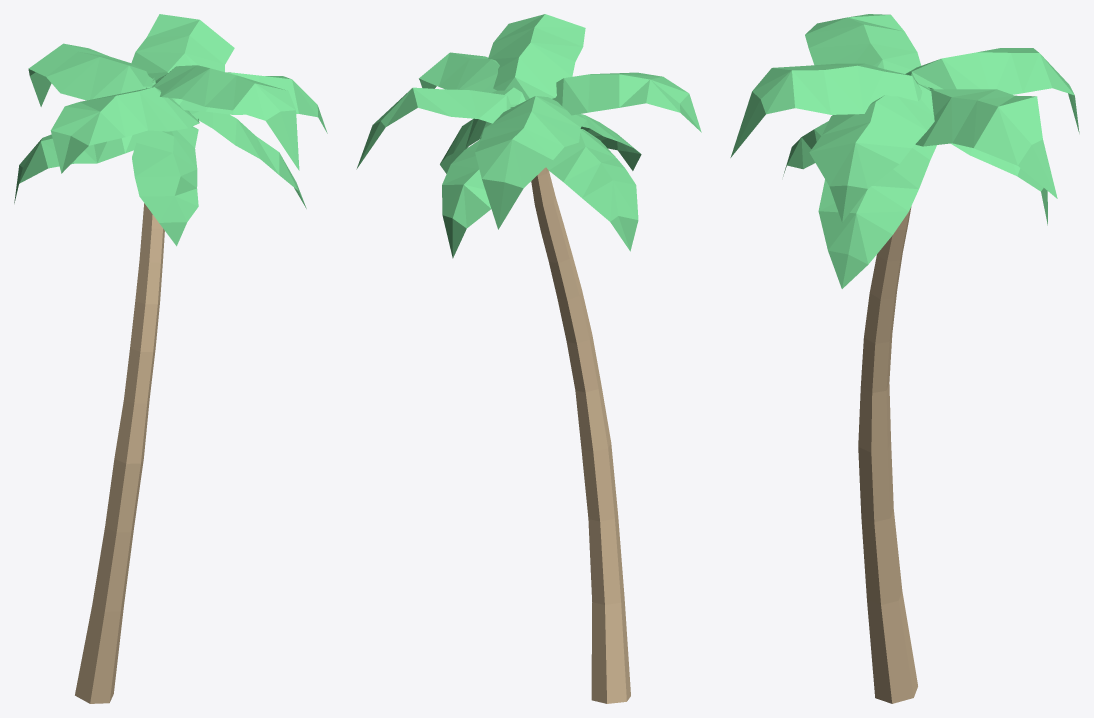
The model's file is PalmTree.fbx.
3 views of the same model, side by side, from view 1: azimuth 30°, elevation 25°; view 2: azimuth 150°, elevation 25°; view 3: azimuth 270°, elevation 25° (orthographic). The views are drawn at different scales.
Visible parts, largest first — view 1: palmtreeleaves, palmtreetrunk; view 2: palmtreeleaves, palmtreetrunk; view 3: palmtreeleaves, palmtreetrunk.
Boxes of the visible parts, box(x1,y1,x2,y2) form: palmtreeleaves: box(14, 14, 327, 246); palmtreetrunk: box(75, 203, 164, 703); palmtreeleaves: box(356, 14, 701, 258); palmtreetrunk: box(531, 167, 630, 703); palmtreeleaves: box(730, 14, 1079, 288); palmtreetrunk: box(858, 206, 917, 703).
Bounding box in the file's own units: 542 × 1191 × 550.
